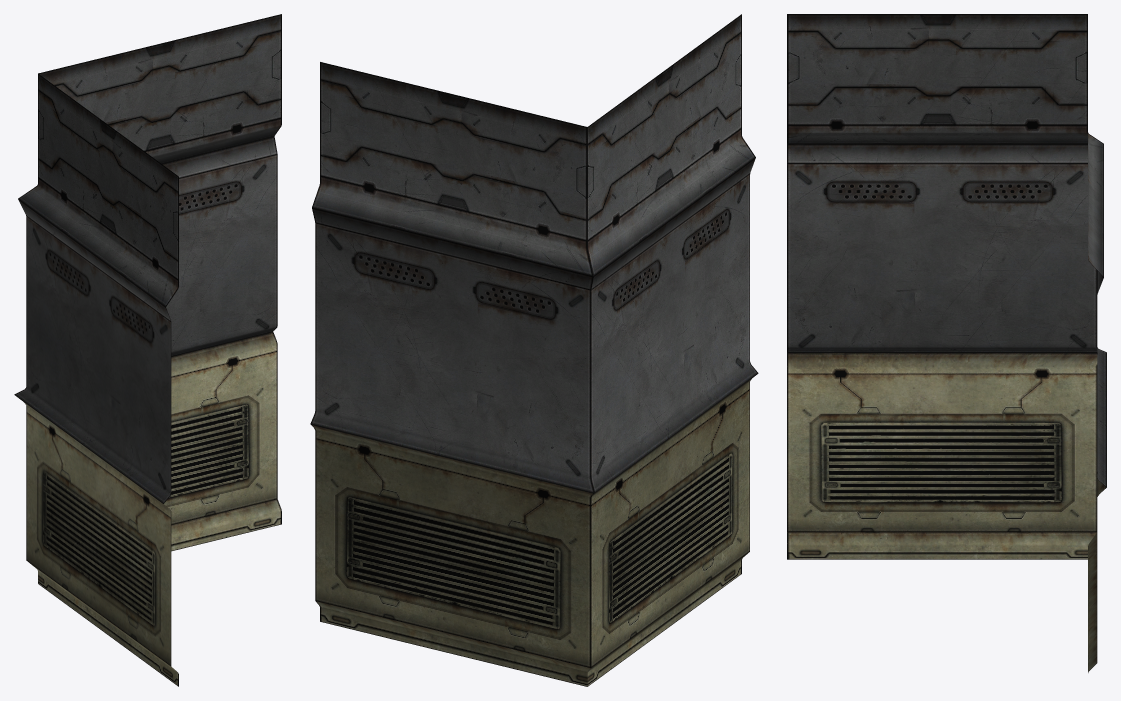
The model's file is living_area_flat02_vent_corner_concave.dae.
3 views of the same model, side by side, from view 1: azimuth 30°, elevation 25°; view 2: azimuth 150°, elevation 25°; view 3: azimuth 270°, elevation 25° (orthographic). The views are drawn at different scales.
Parts seen in each view (by area): view 1: polySurface7; view 2: polySurface7; view 3: polySurface7.
Boxes of the visible parts, box(x1,y1,x2,y2) form: polySurface7: box(14, 14, 281, 686); polySurface7: box(310, 14, 758, 686); polySurface7: box(787, 14, 1106, 672).
Bounding box in the file's own units: 2.13 × 4 × 2.13.
